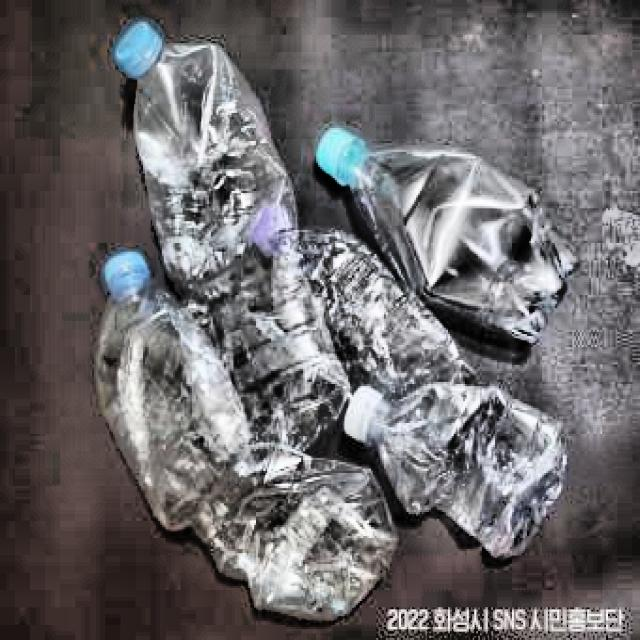Bottles: (70, 223, 410, 628), (90, 20, 366, 462), (280, 93, 588, 360), (230, 193, 482, 466), (314, 342, 576, 568)
